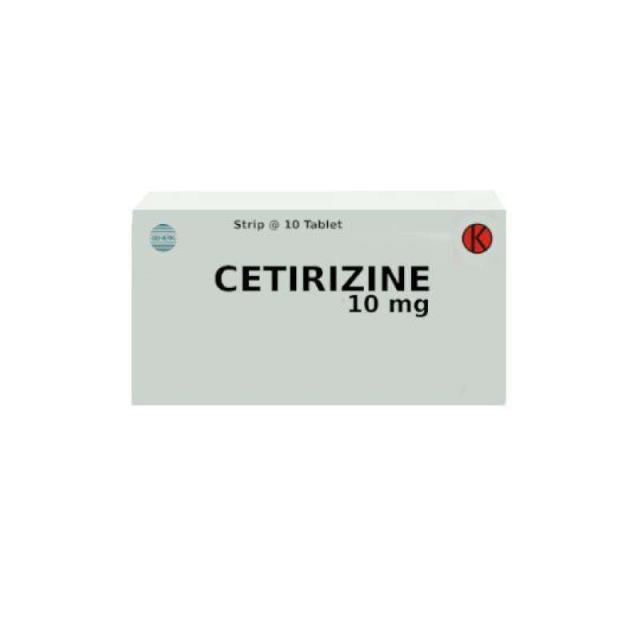drug-name: (211, 254, 434, 294)
